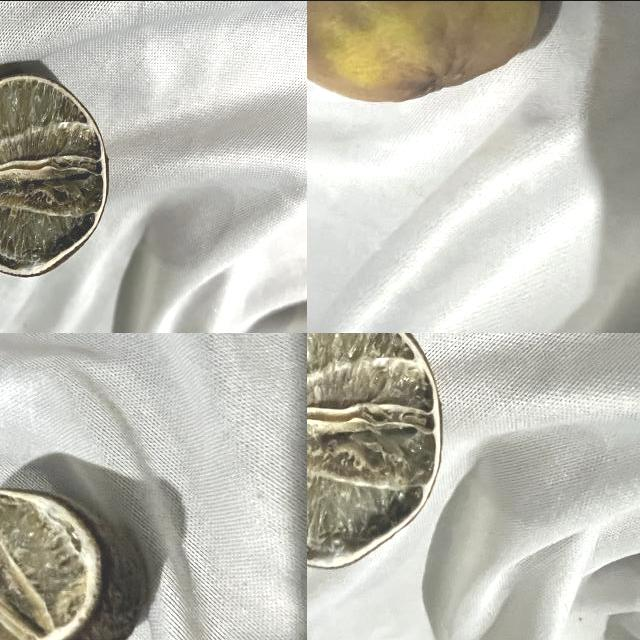General: (304, 330, 441, 568)
Infectious: (305, 0, 542, 102), (0, 486, 148, 639)
Sharps: (0, 71, 108, 276)
